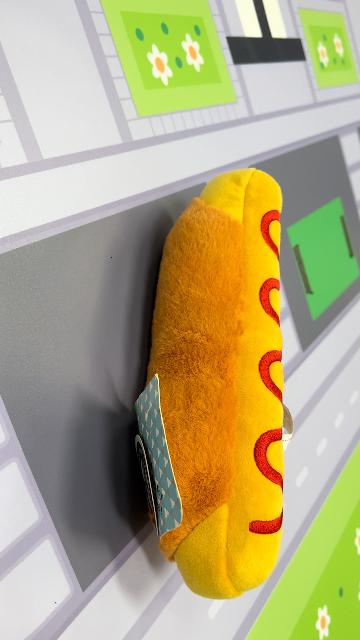hotdog: (134, 167, 288, 601)
